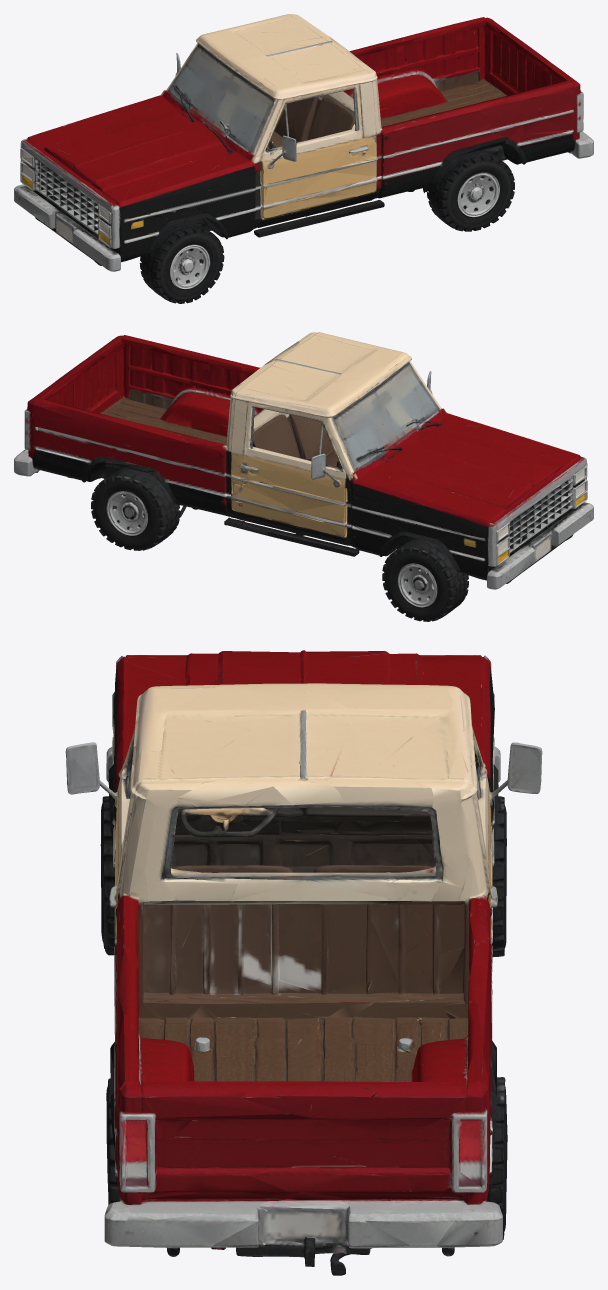
Rendered from truck_meshy_textured.glb.
3 views of the same model, one above another, from view 1: azimuth 30°, elevation 25°; view 2: azimuth 150°, elevation 25°; view 3: azimuth 270°, elevation 25° (orthographic). The views are drawn at different scales.
Parts seen in each view (by area): view 1: Mesh_0; view 2: Mesh_0; view 3: Mesh_0.
Boxes of the visible parts, x1,y1,x2,y2 form: Mesh_0: (14, 14, 593, 303); Mesh_0: (14, 332, 593, 621); Mesh_0: (65, 650, 542, 1275).
Size of the model in its own units: 1.9 by 0.6726 by 0.8031.
1 material, 1 textured.
